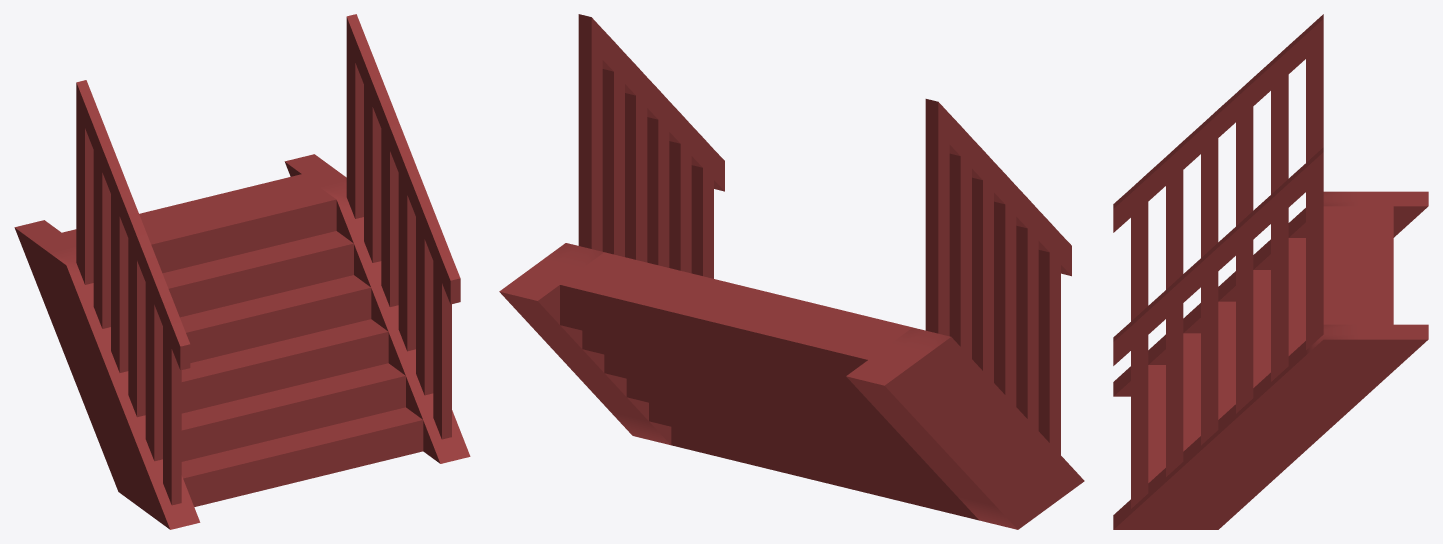
Rendered from Stairs_Model.fbx.
3 views of the same model, side by side, from view 1: azimuth 30°, elevation 25°; view 2: azimuth 150°, elevation 25°; view 3: azimuth 270°, elevation 25° (orthographic). The views are drawn at different scales.
Visible parts, largest first — view 1: Stairs; view 2: Stairs; view 3: Stairs.
Boxes of the visible parts, box(x1,y1,x2,y2) form: Stairs: box(14, 14, 470, 529); Stairs: box(499, 14, 1084, 529); Stairs: box(1113, 14, 1428, 529).
Size of the model in its own units: 10 by 11.75 by 9.
